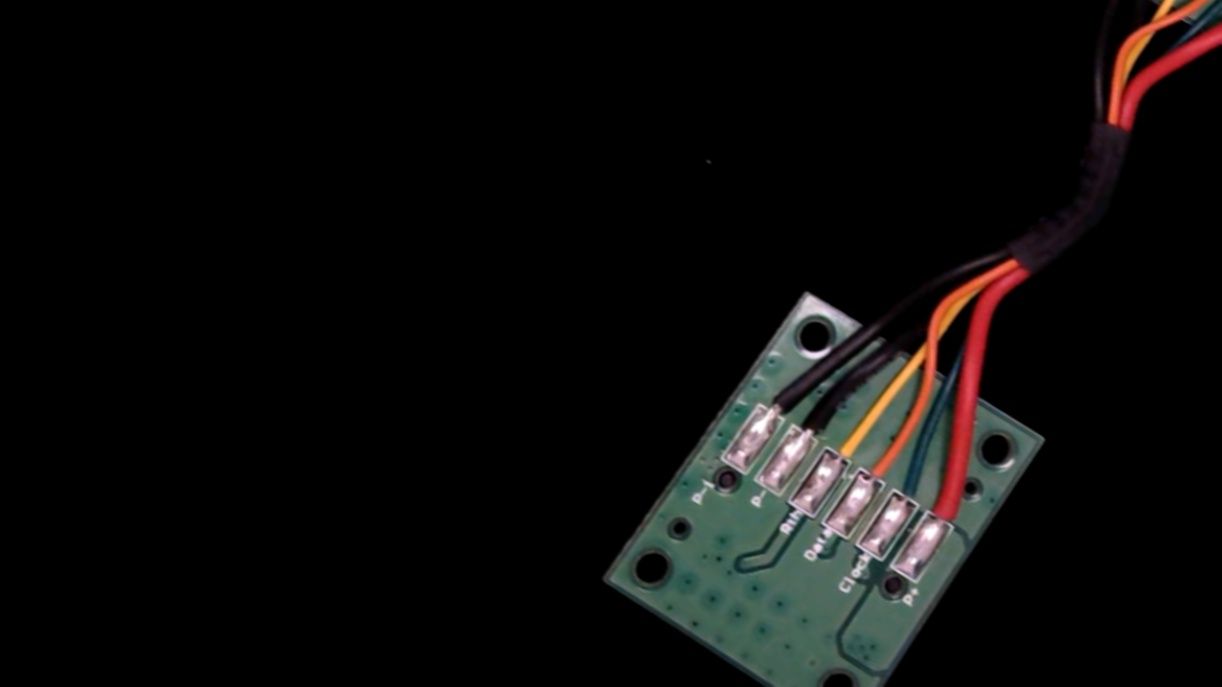Black: (782, 385, 849, 458)
Black1: (744, 359, 816, 434)
Green: (879, 455, 946, 527)
Orange: (848, 433, 913, 503)
Red: (912, 468, 985, 549)
Yellow: (816, 405, 882, 480)
